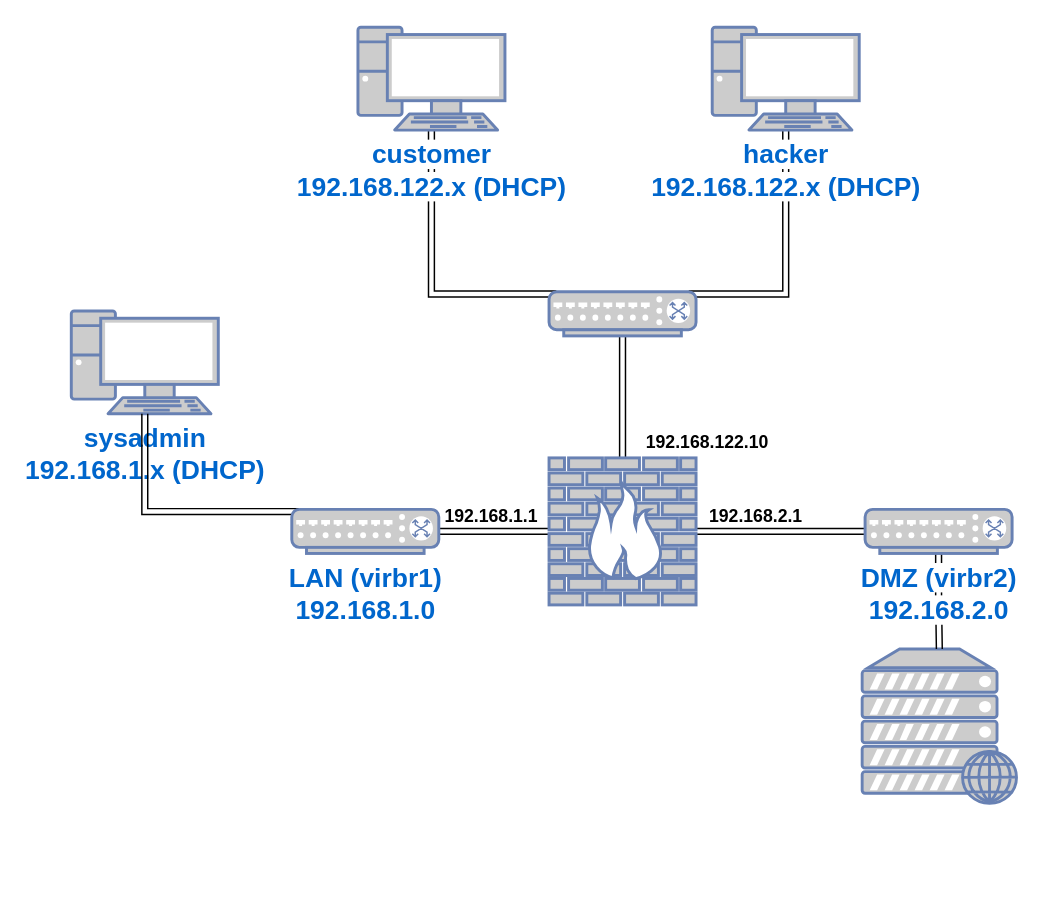
Some shapes in this 1044 by 901 pixel diagram are drawn without their labels. Here are the shapes that lost their labels. From the top down, the centre of each, then its label:
the point at 622,313: default (virbr0) 192.168.122.1
the point at 622,531: pfsense
the point at 938,725: juiceshop 192.168.2.10
